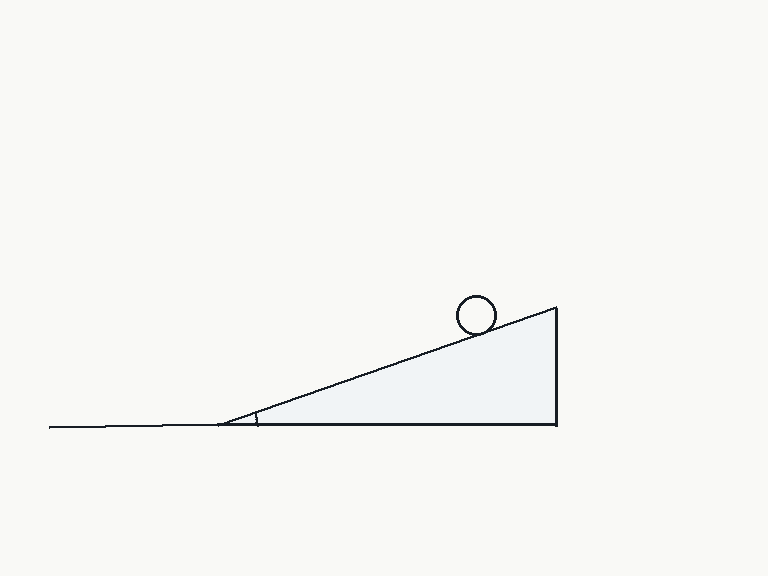ball: (454, 293, 498, 337)
ramp: (215, 306, 558, 427)
